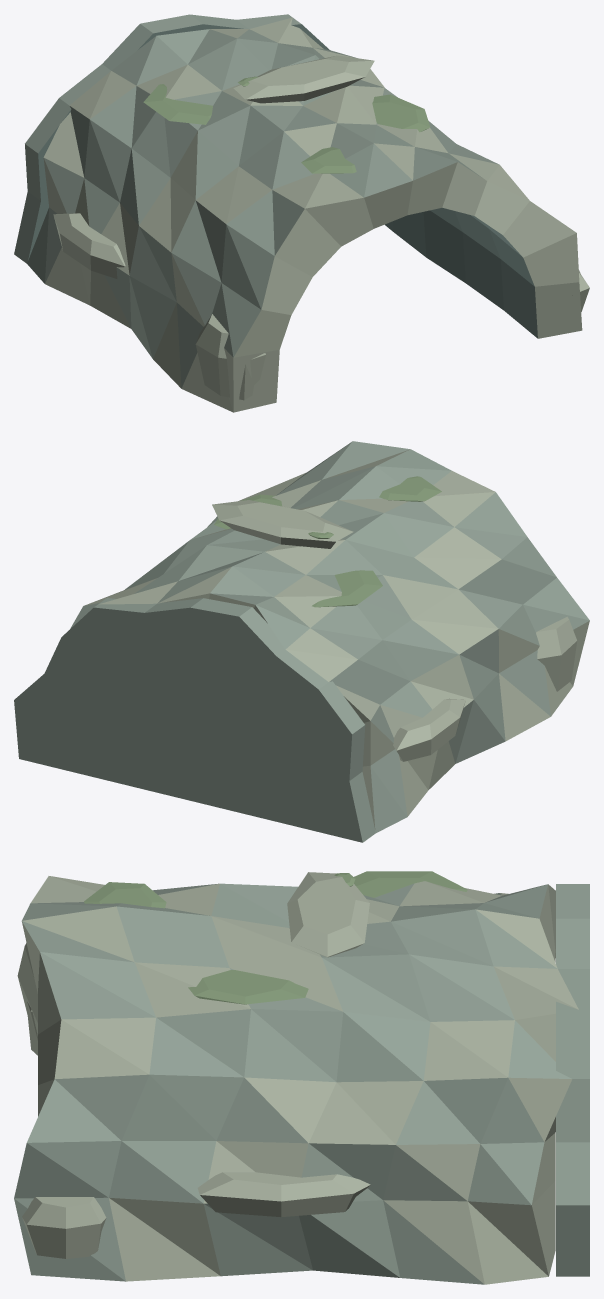
The model's file is cave.glb.
3 views of the same model, one above another, from view 1: azimuth 30°, elevation 25°; view 2: azimuth 150°, elevation 25°; view 3: azimuth 270°, elevation 25° (orthographic). The views are drawn at different scales.
Visible parts, largest first — view 1: Cave_Roof_Shell, Cave_Wall_Left, Cave_Wall_Right, Cave_Back, Cave_Roof_Perch, Cave_Stratum_2, Cave_Stratum_0, Cave_Roof_Moss_1, Cave_Roof_Moss_0, Cave_Roof_Moss_2; view 2: Cave_Back, Cave_Roof_Shell, Cave_Wall_Left, Cave_Roof_Perch, Cave_Stratum_2, Cave_Stratum_0, Cave_Roof_Moss_0, Cave_Roof_Moss_2; view 3: Cave_Roof_Shell, Cave_Wall_Right, Cave_Back, Cave_Stratum_3, Cave_Roof_Perch, Cave_Stratum_1, Cave_Roof_Moss_1, Cave_Roof_Moss_0, Cave_Roof_Moss_2, Cave_Wall_Left.
Part boxes in pixels (x1,y1,x2,y2): Cave_Roof_Shell: (43, 17, 576, 314); Cave_Wall_Left: (27, 158, 291, 412); Cave_Wall_Right: (385, 207, 582, 338); Cave_Back: (14, 14, 330, 263); Cave_Roof_Perch: (233, 55, 374, 103); Cave_Stratum_2: (53, 213, 125, 278); Cave_Stratum_0: (195, 314, 265, 400); Cave_Roof_Moss_1: (372, 94, 430, 132); Cave_Roof_Moss_0: (143, 84, 212, 124); Cave_Roof_Moss_2: (301, 147, 356, 173); Cave_Back: (14, 598, 375, 842); Cave_Roof_Shell: (70, 441, 556, 722); Cave_Wall_Left: (362, 578, 589, 832); Cave_Roof_Perch: (212, 500, 353, 548); Cave_Stratum_2: (393, 698, 465, 761); Cave_Stratum_0: (536, 616, 577, 691); Cave_Roof_Moss_0: (312, 570, 382, 607); Cave_Roof_Moss_2: (379, 476, 441, 501); Cave_Roof_Shell: (21, 876, 578, 1144); Cave_Wall_Right: (14, 1133, 555, 1284); Cave_Back: (556, 884, 589, 1276); Cave_Stratum_3: (197, 1172, 370, 1217); Cave_Roof_Perch: (287, 872, 369, 957); Cave_Stratum_1: (22, 1197, 106, 1258); Cave_Roof_Moss_1: (188, 970, 308, 1004); Cave_Roof_Moss_0: (354, 871, 467, 897); Cave_Roof_Moss_2: (84, 882, 166, 908); Cave_Wall_Left: (17, 946, 37, 1035).
Bounding box in the file's own units: 10.86 × 5.78 × 11.24.
